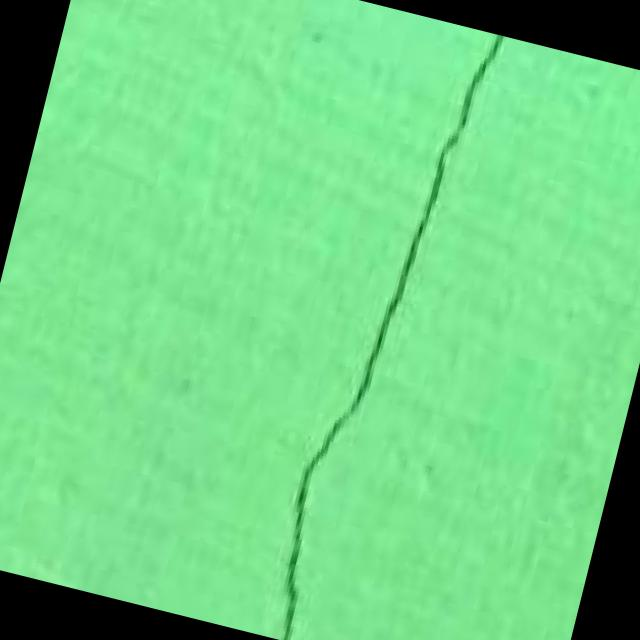crack: (215, 2, 546, 640)
